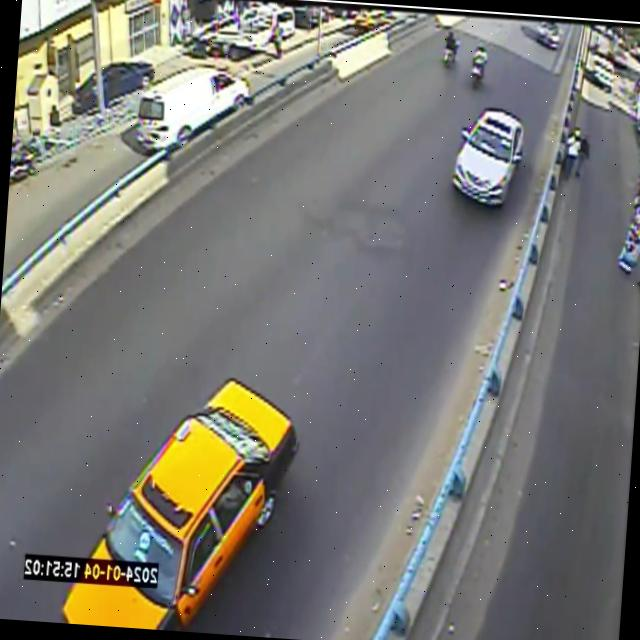car: (62, 380, 298, 630), (137, 66, 250, 149), (452, 107, 524, 204), (536, 21, 561, 50)
